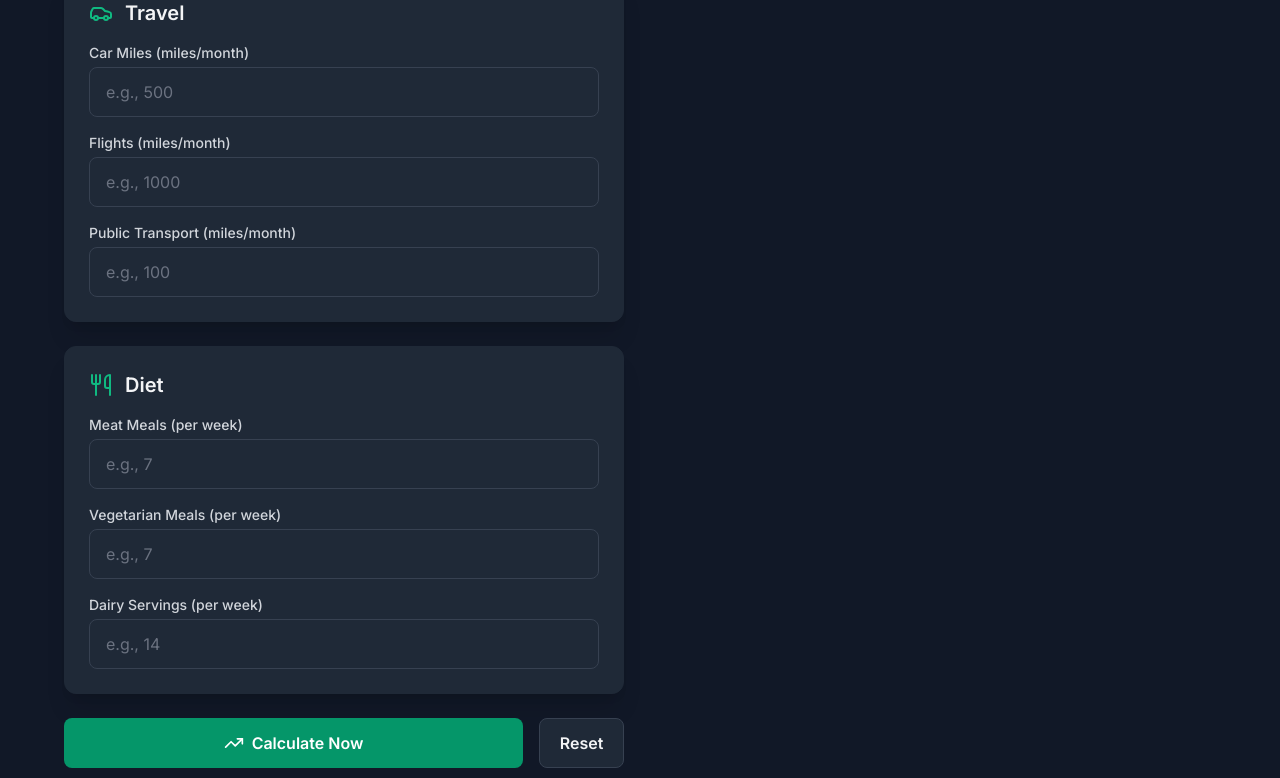
Scenario: Calculator Integration Tests › calculates carbon footprint
(page scrolled)
Step 1. Click the button "Calculate Now" → (294, 743), box x1=64 y1=718 x2=523 y2=768
(page scrolled)
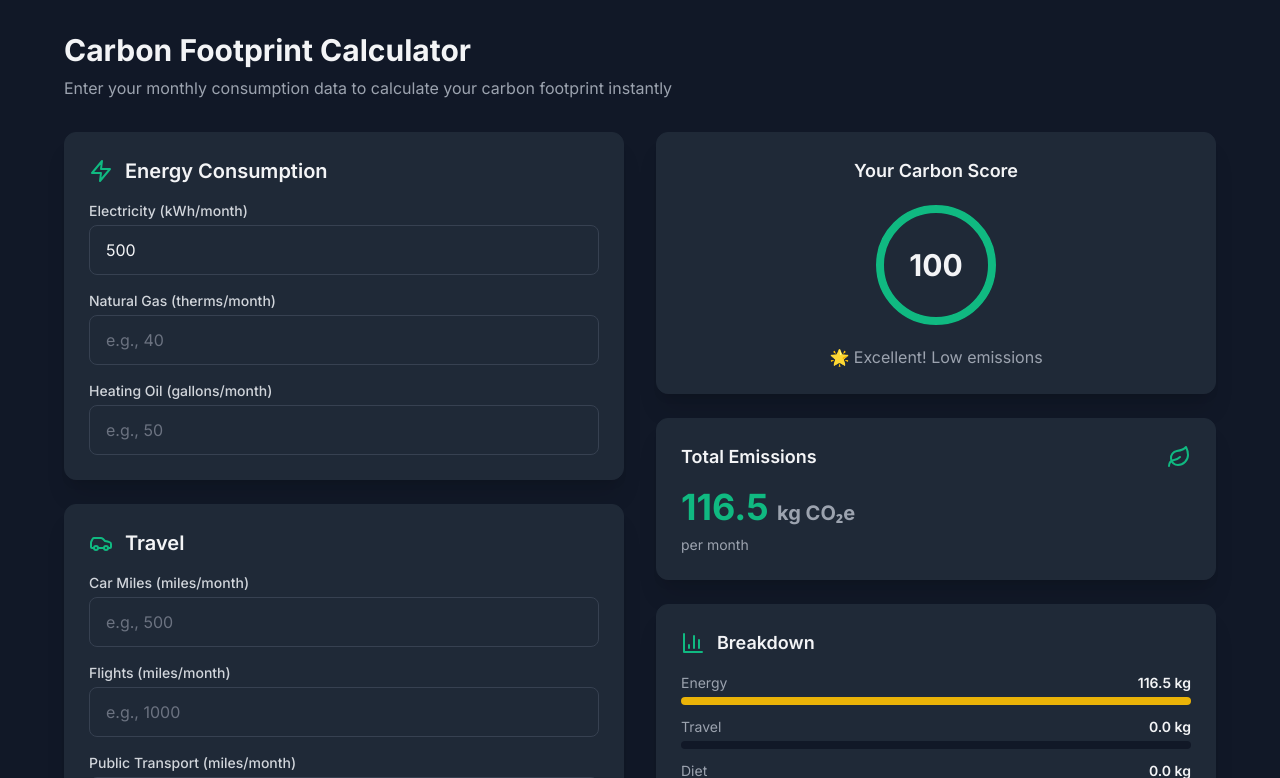
Expected: the heading "Your Carbon Score" is shown, x1=854 y1=160 x2=1018 y2=181
